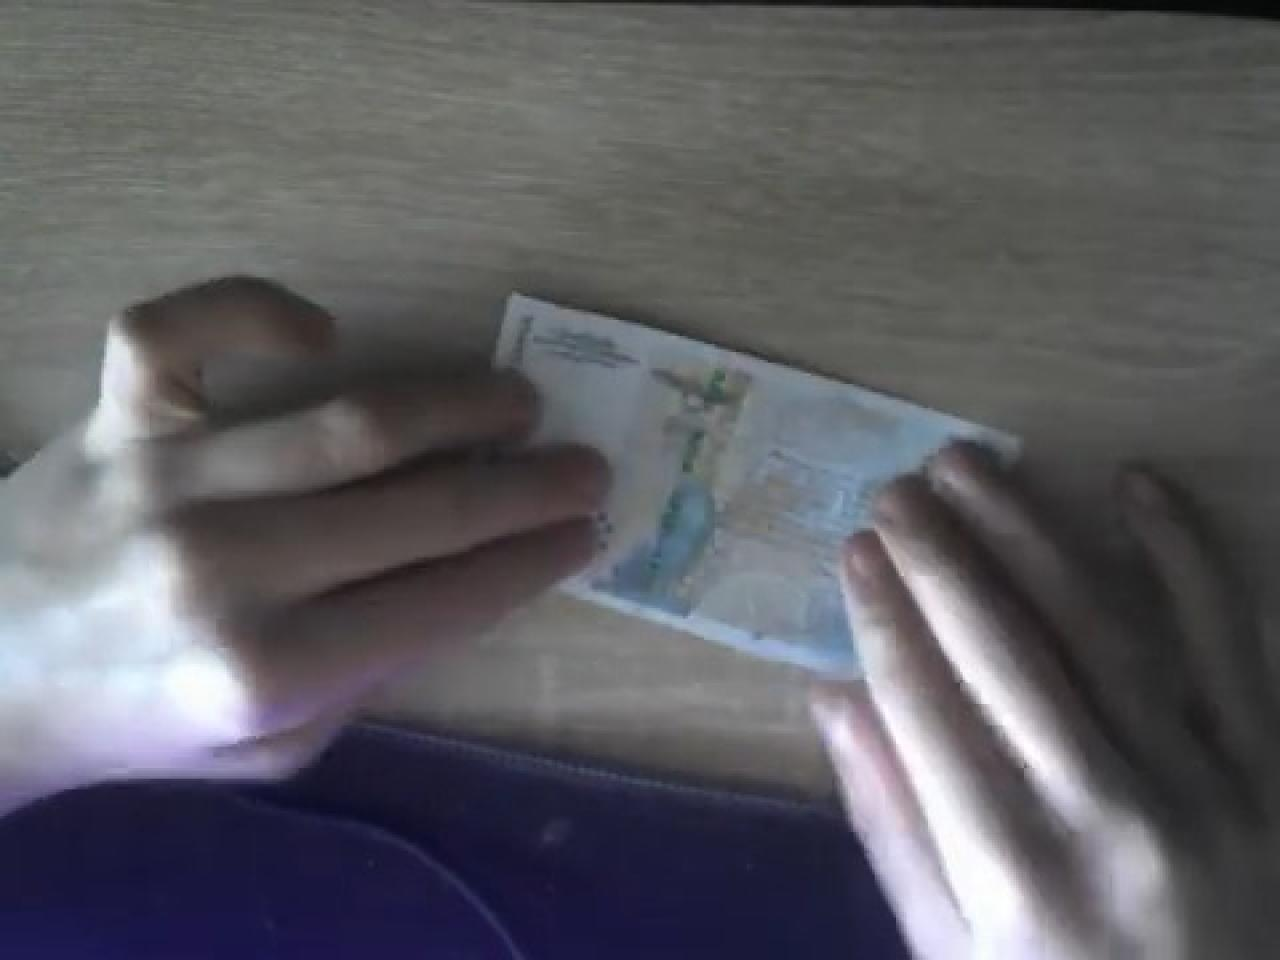20leva: (491, 290, 1024, 678), (491, 290, 1024, 675)
